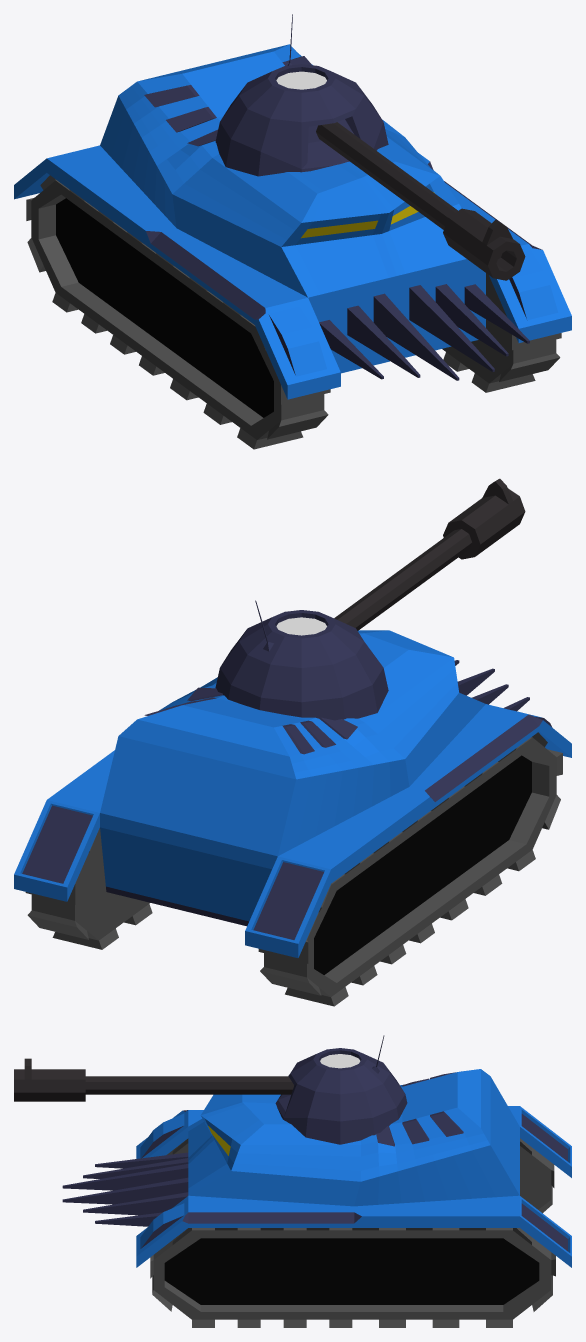
Rendered from TANK_B~1.FBX.
The picture shows the model from 3 angles, top to bottom: view 1: azimuth 30°, elevation 25°; view 2: azimuth 150°, elevation 25°; view 3: azimuth 270°, elevation 25°; orthographic projection. The views are drawn at different scales.
Visible parts, largest first — view 1: Tank_cannon, Tank_cannon_whell, Tank_cannon_turret; view 2: Tank_cannon, Tank_cannon_whell, Tank_cannon_turret; view 3: Tank_cannon, Tank_cannon_whell, Tank_cannon_turret.
Boxes of the visible parts, x1,y1,x2,y2 form: Tank_cannon: (14, 44, 571, 399); Tank_cannon_whell: (26, 175, 561, 449); Tank_cannon_turret: (215, 14, 525, 280); Tank_cannon: (14, 630, 571, 957); Tank_cannon_whell: (25, 732, 562, 1006); Tank_cannon_turret: (215, 478, 525, 720); Tank_cannon: (62, 1069, 571, 1267); Tank_cannon_whell: (150, 1138, 555, 1327); Tank_cannon_turret: (14, 1035, 407, 1144).
Size of the model in its own units: 131 by 135 by 279.
